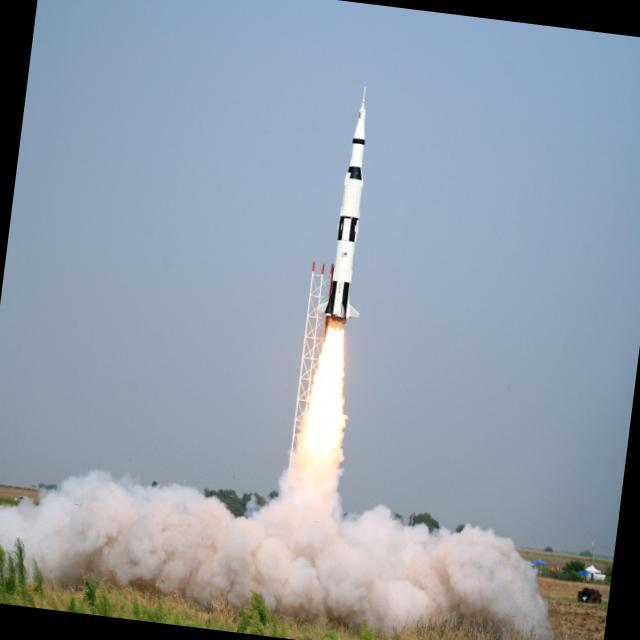rocket: (308, 90, 385, 391)
